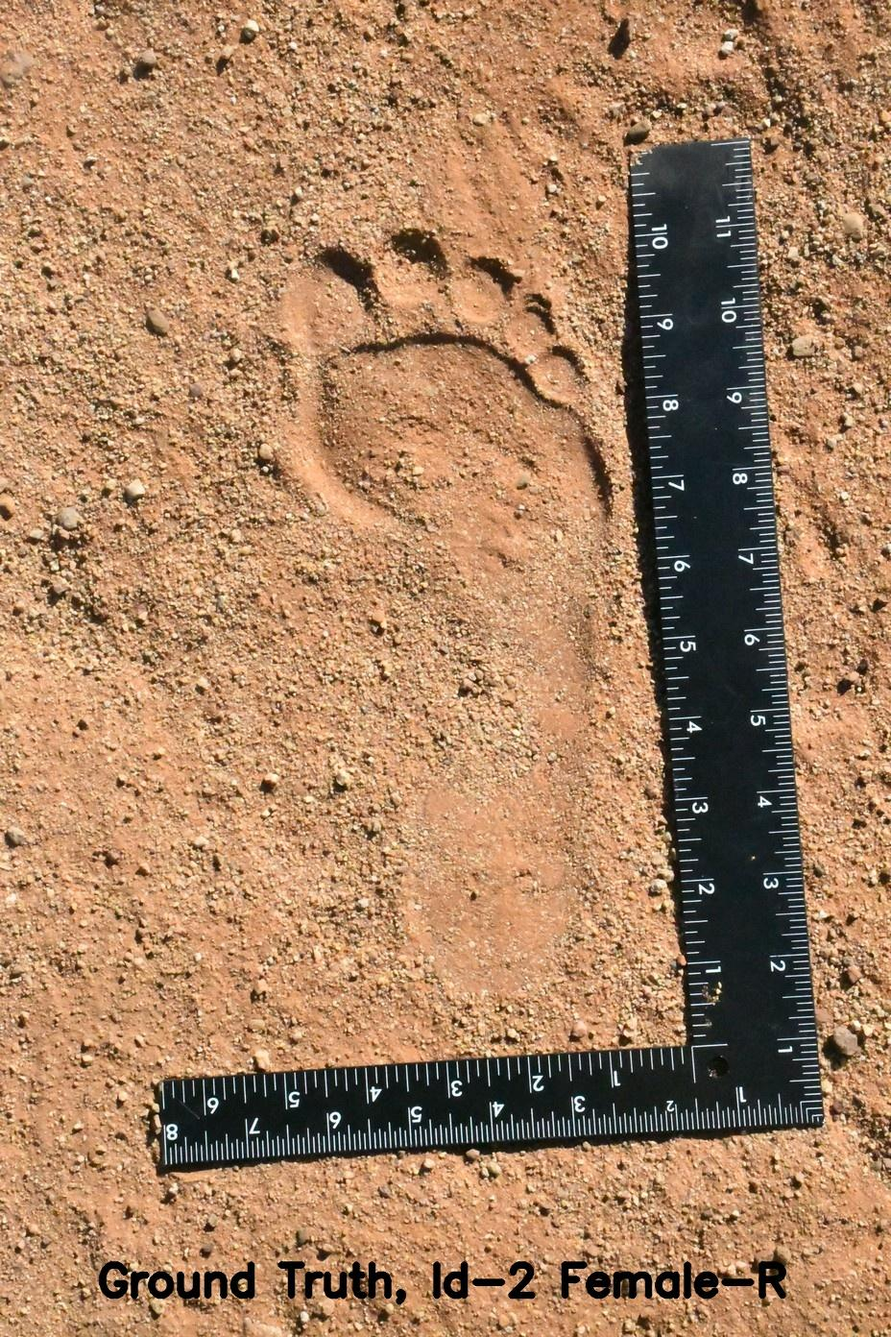human_foot_print: (241, 202, 628, 1015)
